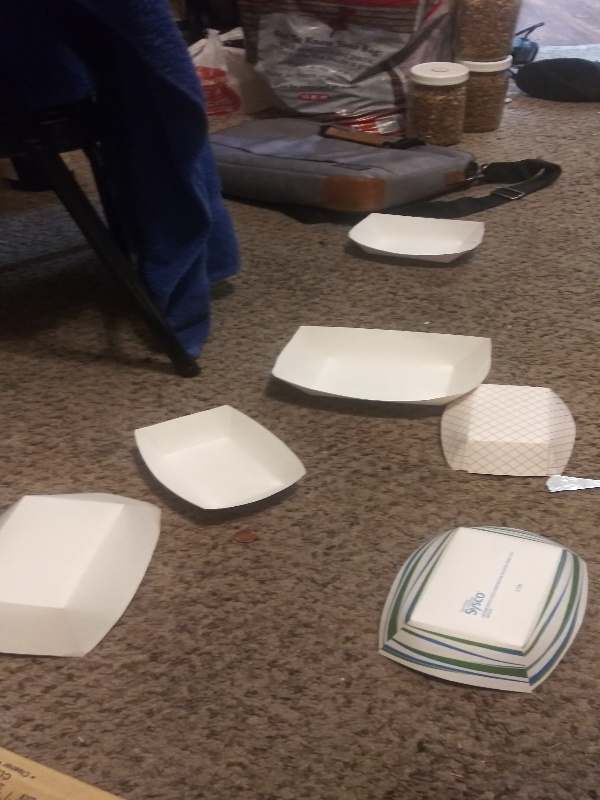plate: (373, 522, 595, 699), (1, 488, 166, 661), (129, 401, 310, 520), (272, 319, 492, 411), (437, 382, 579, 483), (342, 210, 488, 266)
